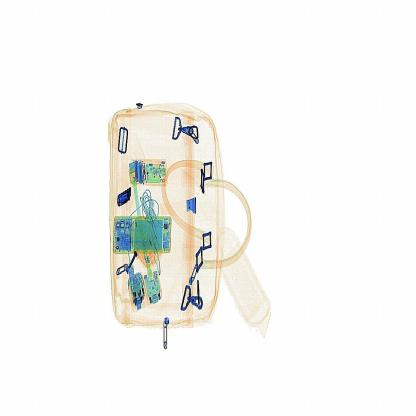knife: (119, 187, 135, 209)
